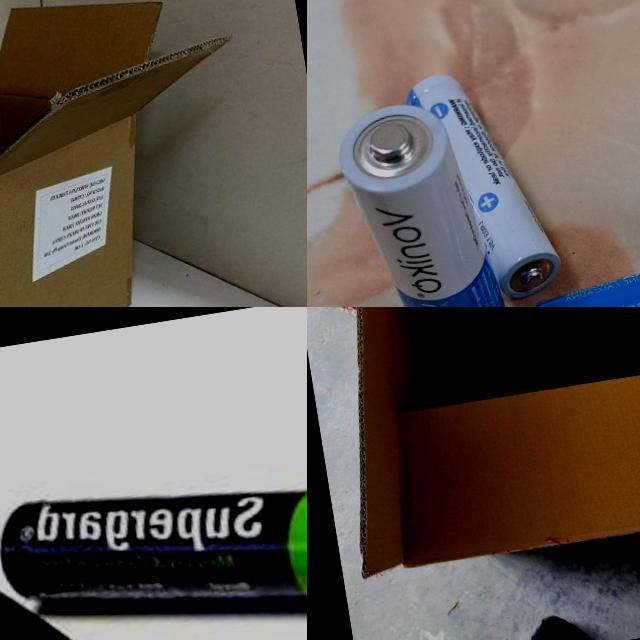bateria: (0, 441, 307, 640), (331, 88, 516, 307), (403, 63, 567, 307), (0, 516, 193, 640)
papelão: (307, 307, 640, 588), (0, 0, 290, 307)
